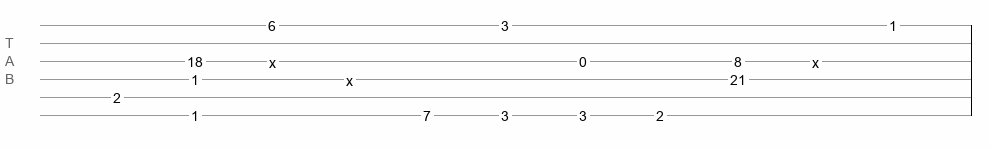0: (579, 54, 587, 64)
1: (191, 72, 199, 82), (191, 108, 199, 118), (889, 18, 897, 28)
18: (187, 54, 203, 64)
2: (113, 90, 121, 100), (656, 108, 664, 118)
21: (730, 72, 746, 82)
3: (501, 108, 509, 118), (501, 18, 509, 28), (579, 108, 587, 118)
6: (268, 18, 276, 28)
7: (423, 108, 431, 118)
8: (734, 54, 742, 64)
x: (269, 55, 276, 63), (346, 73, 353, 81), (812, 55, 819, 63)
